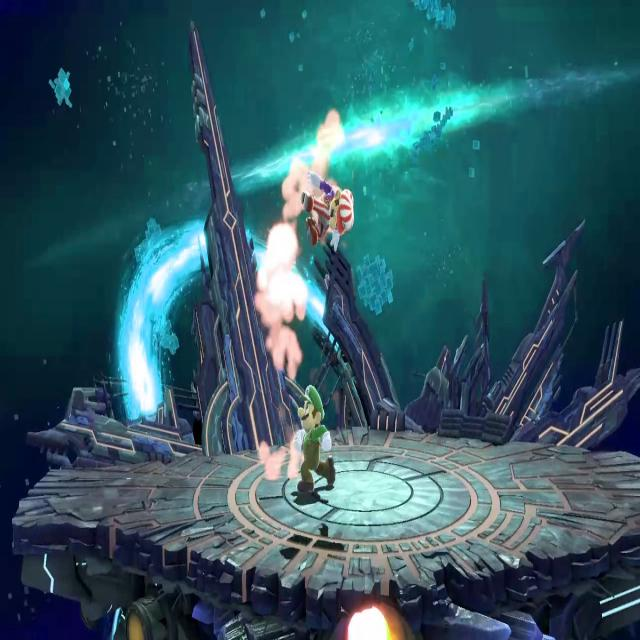Mario: (296, 160, 358, 256)
Mario-UT: (292, 381, 336, 498)
